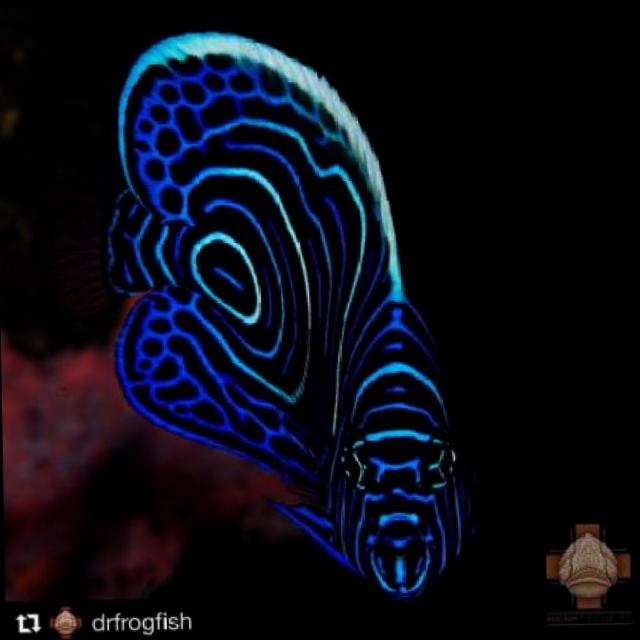AngelFish: (108, 29, 466, 600)
